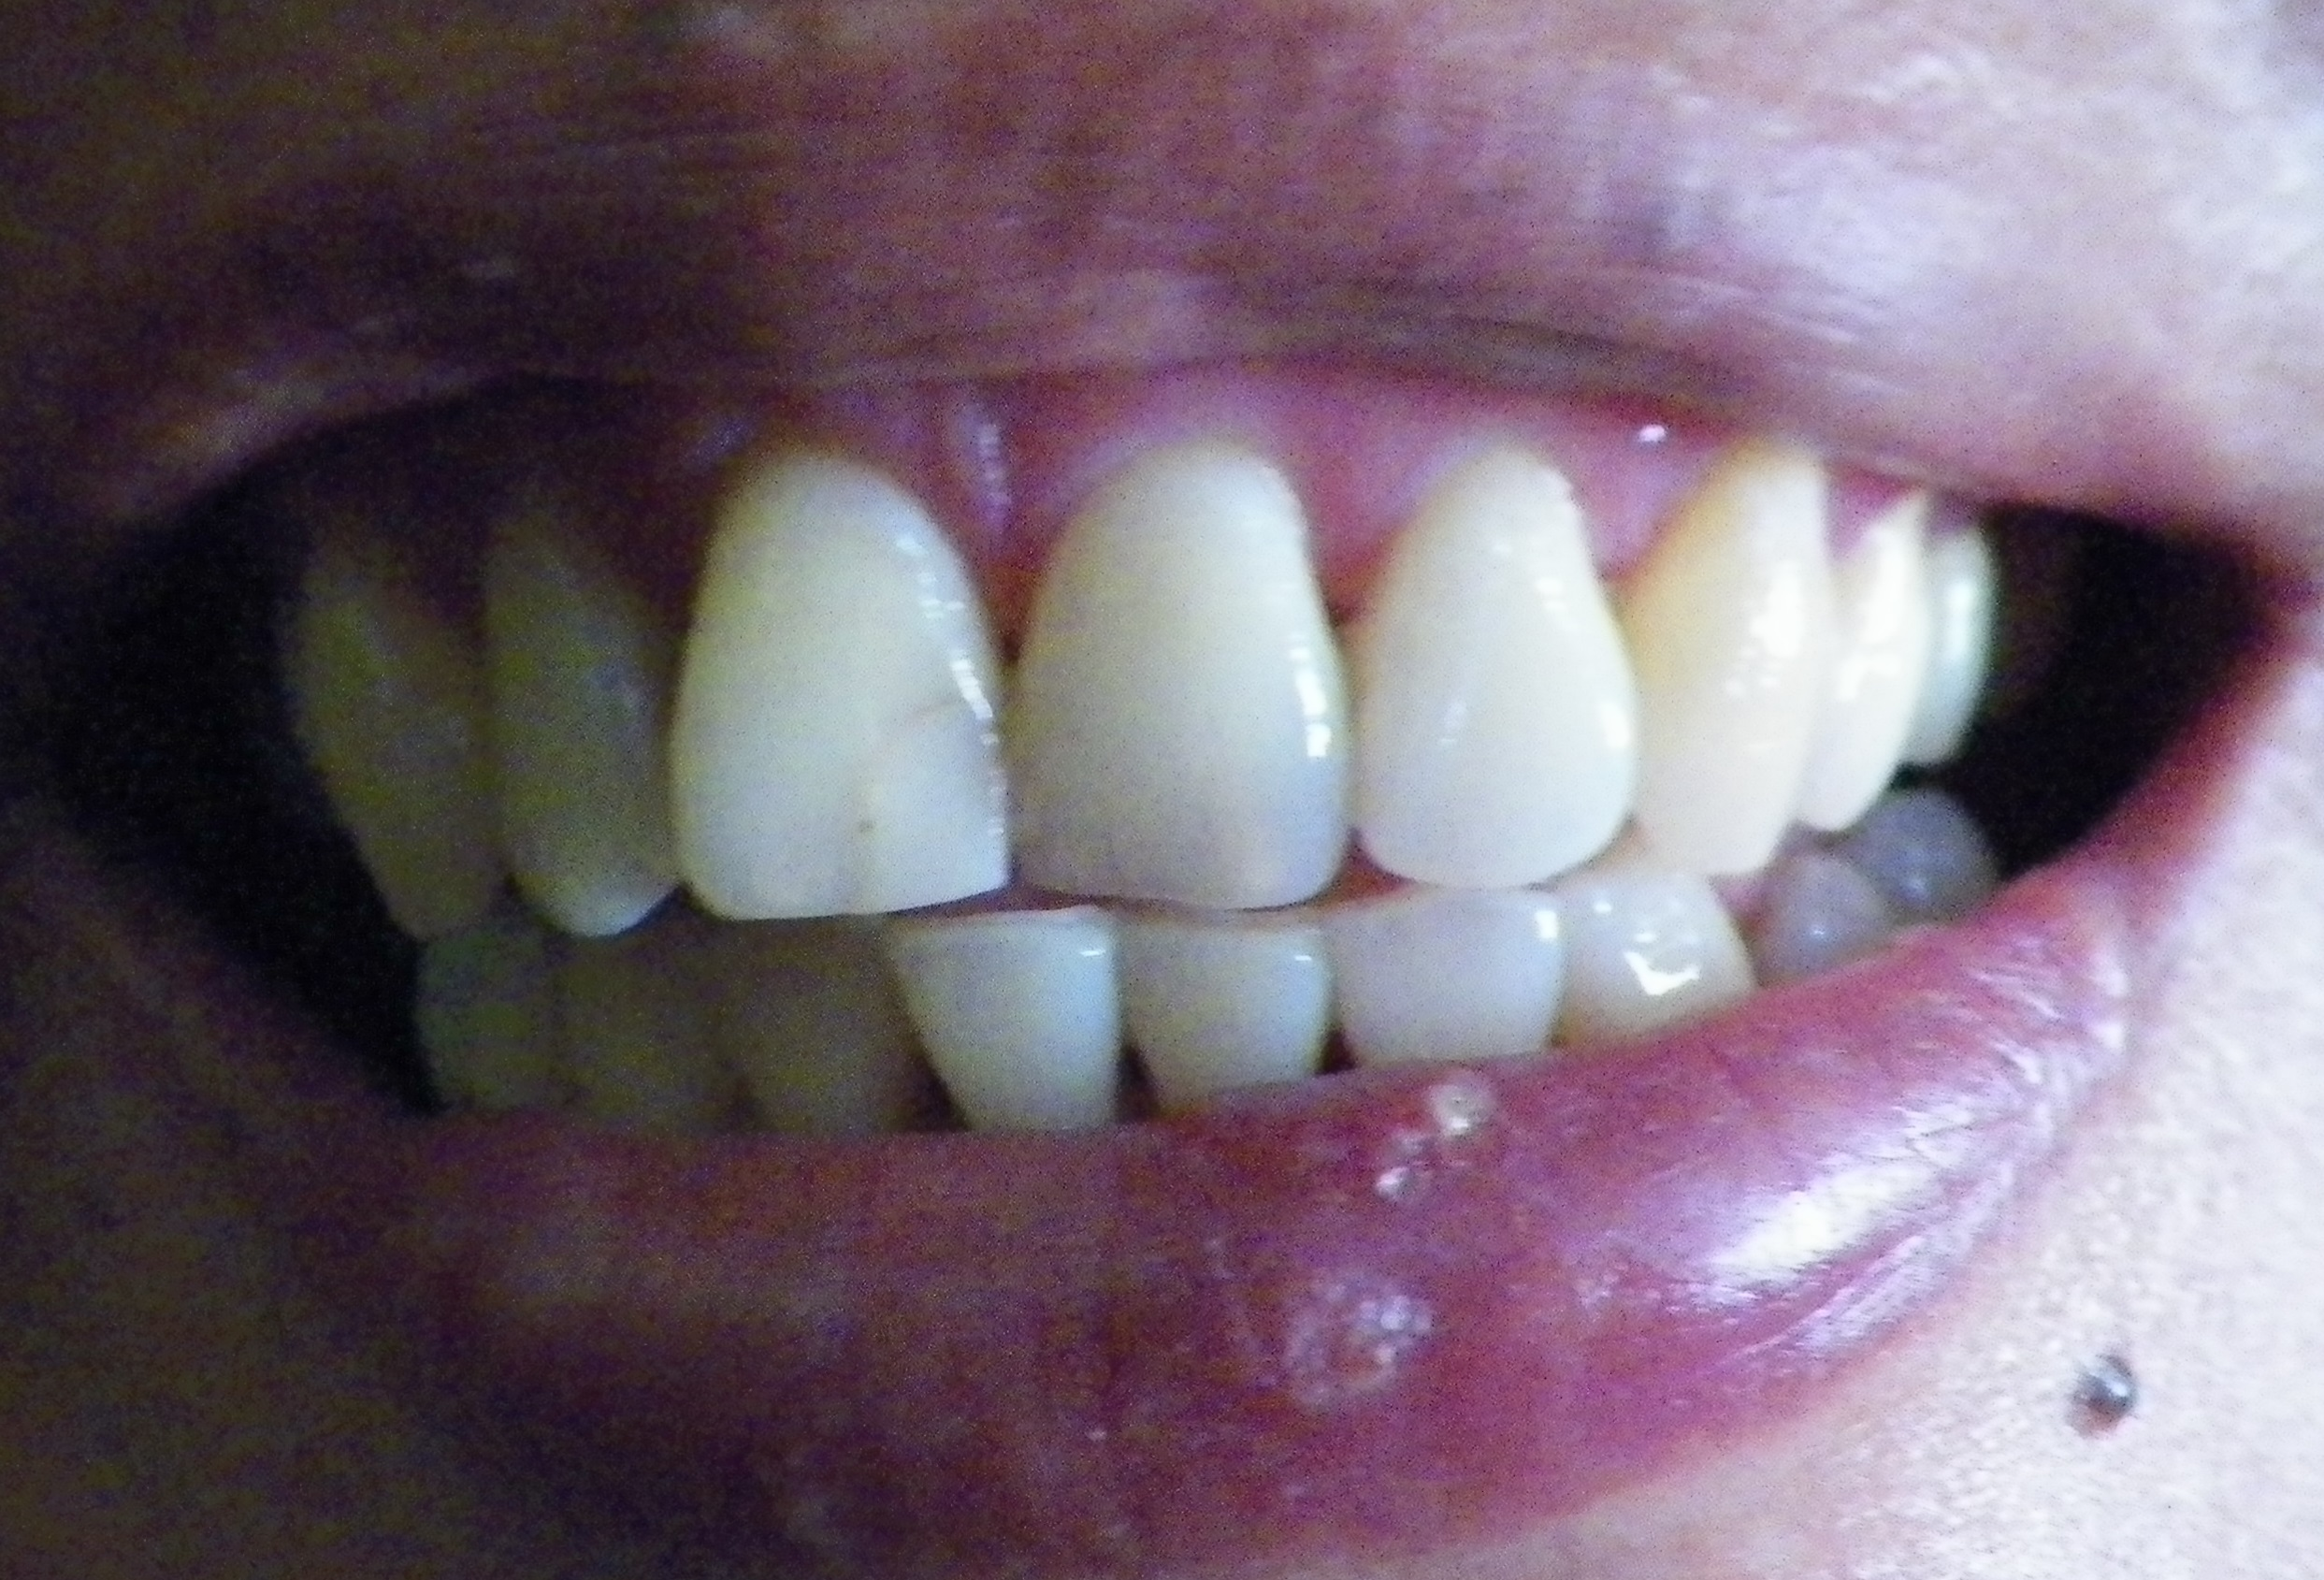boca: (220, 473, 2007, 1132)
